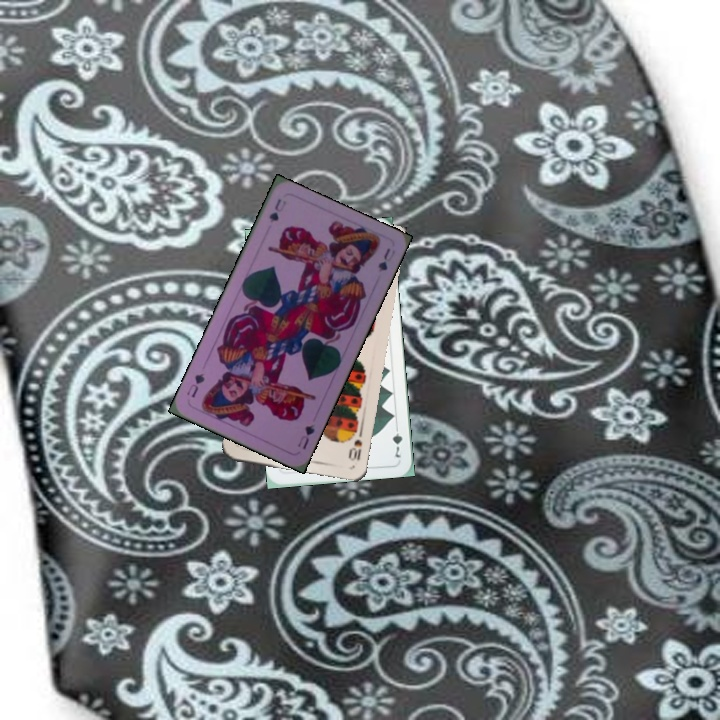G7: (388, 420, 405, 460)
GU: (294, 420, 317, 452), (265, 195, 289, 225)
S10: (345, 424, 365, 463)
